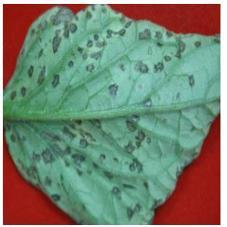Bacterial Spot: (4, 4, 219, 225)
